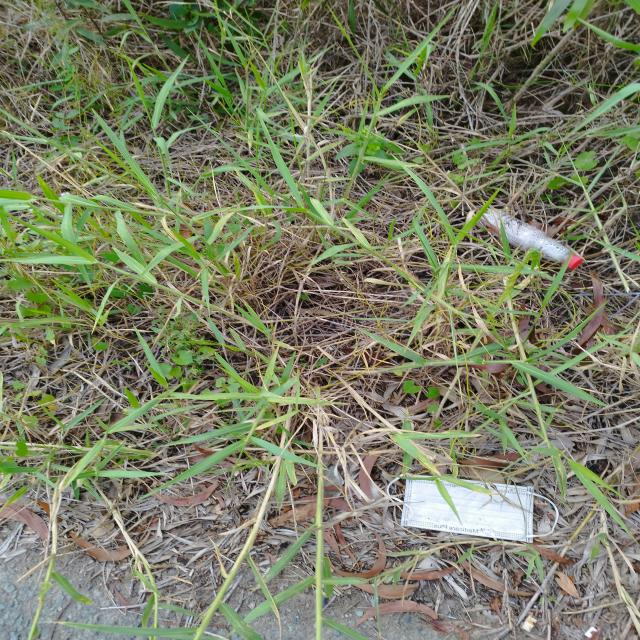bottle: (479, 208, 584, 270)
mask: (387, 473, 559, 544)
